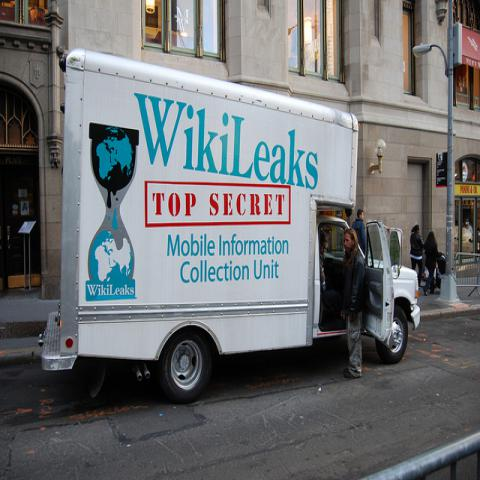truck: (44, 51, 422, 405)
